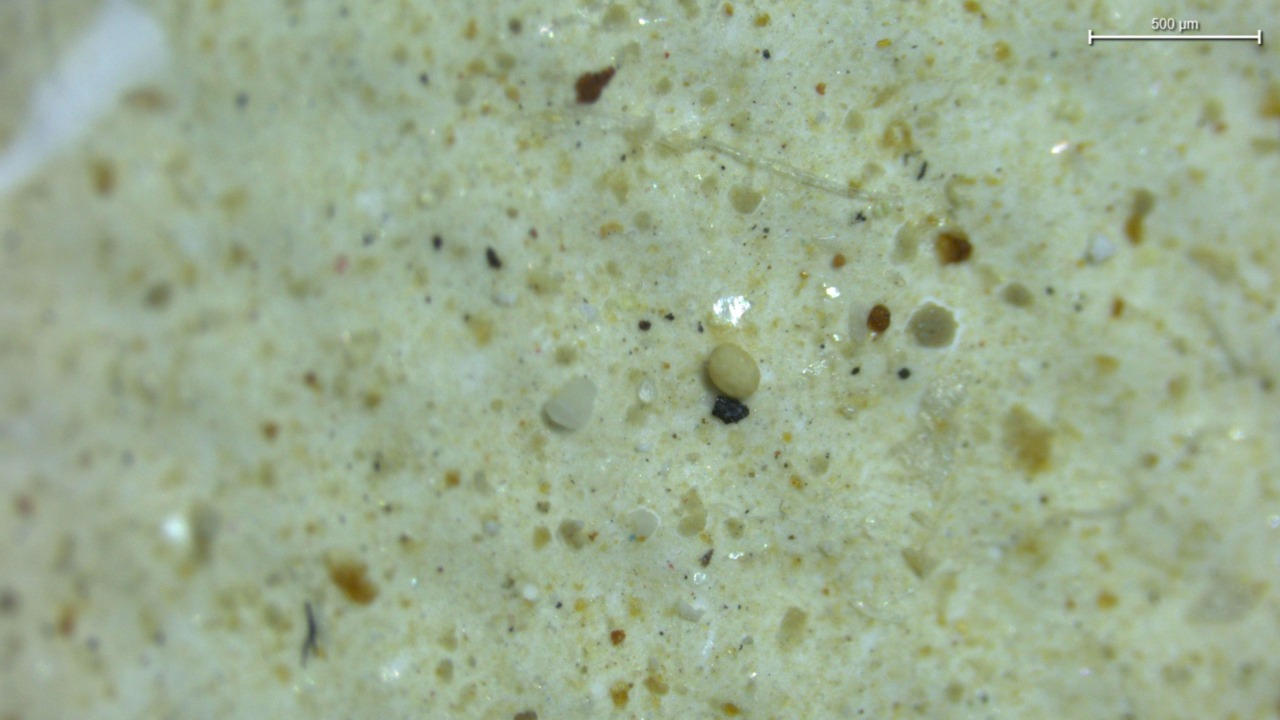microplastic_fragment: (706, 342, 761, 399), (543, 377, 597, 430)
